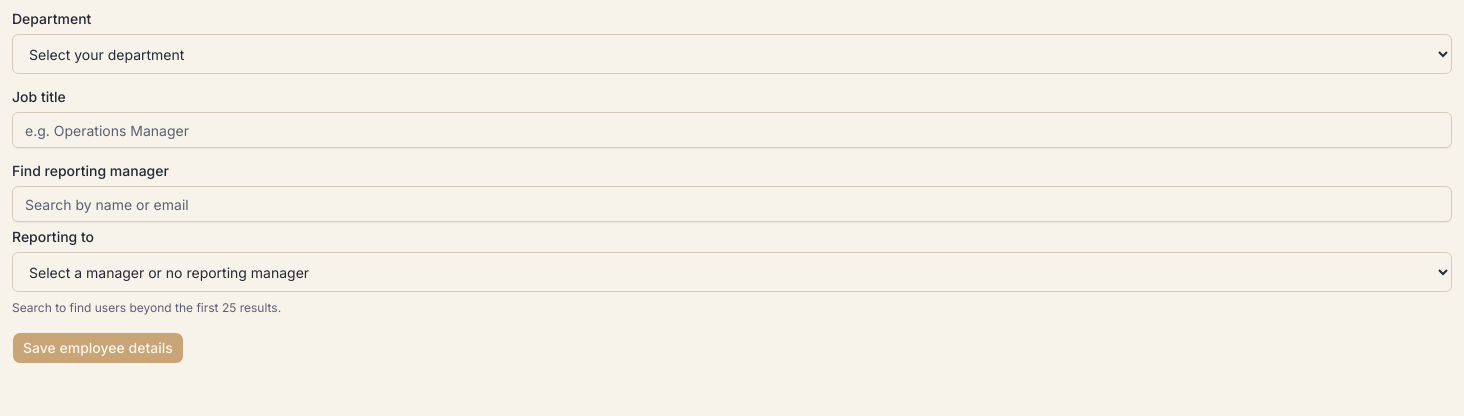
Test: requires an explicit no-manager choice and retains values after a save error
The width and height of the screenshot is (1464, 416).
Select "IT" in the dropdown labelled "Department" at (732, 54), box [12,34,1452,74]
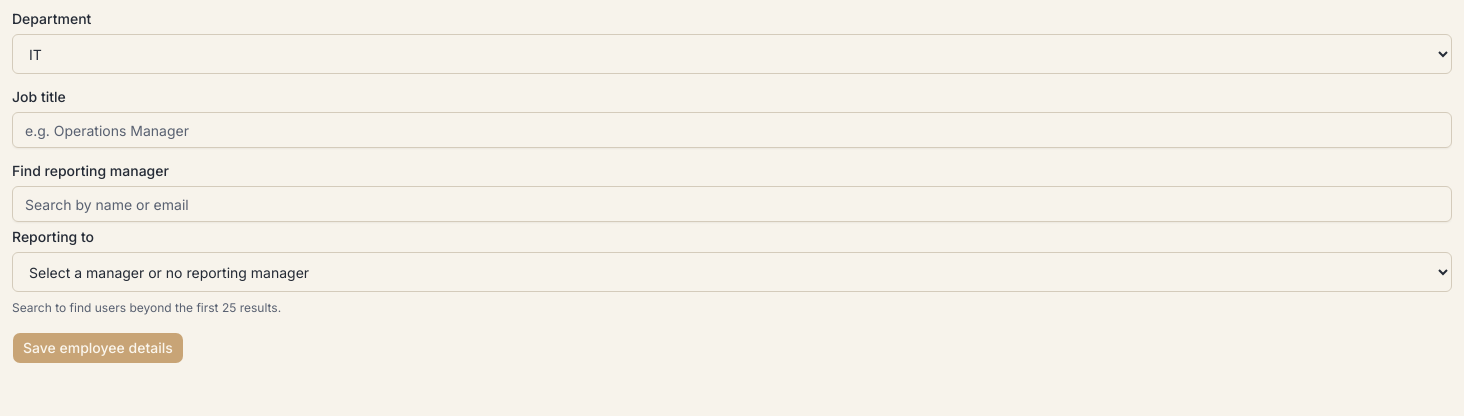
Type "Engineer" into the field labelled "Job title" at (732, 130), box [12,112,1452,148]
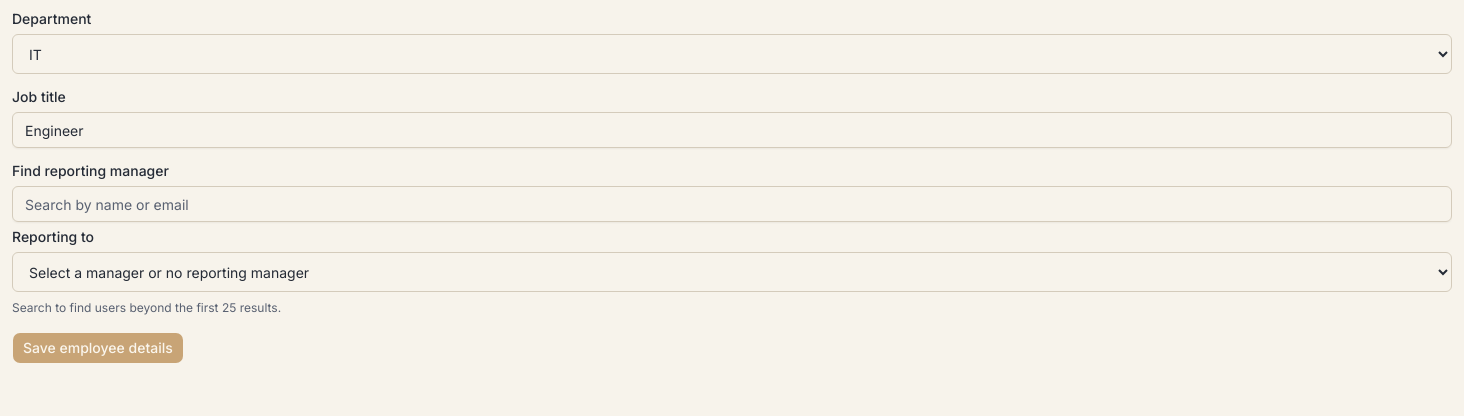
Expected: the button "Save employee details" is disabled, [12,332,184,364]
Select "No reporting manager" in the dropdown labelled "Reporting to" at (732, 272), box [12,252,1452,292]
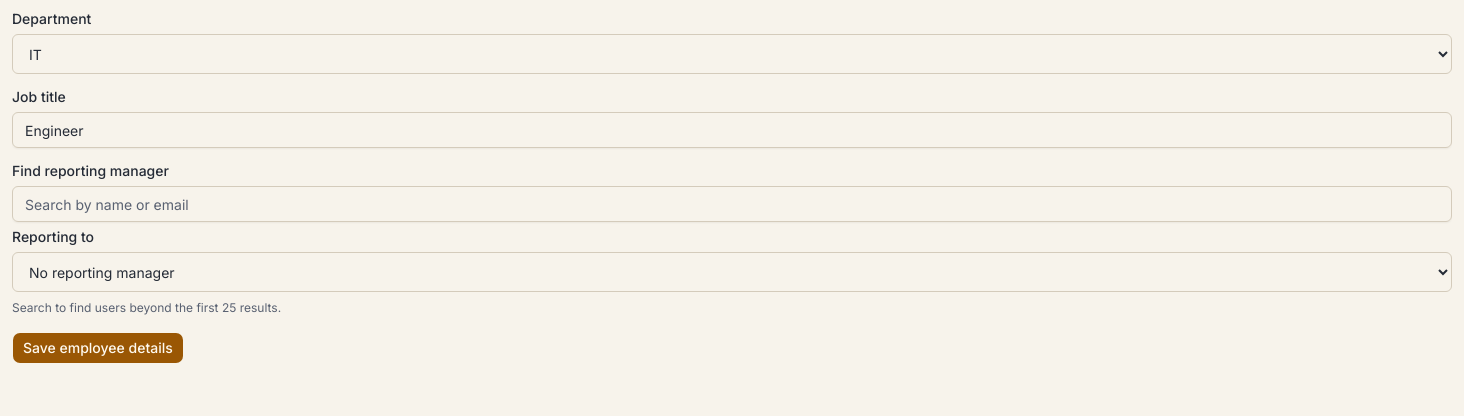
Click the button "Save employee details" at (98, 348), box [12,332,184,364]
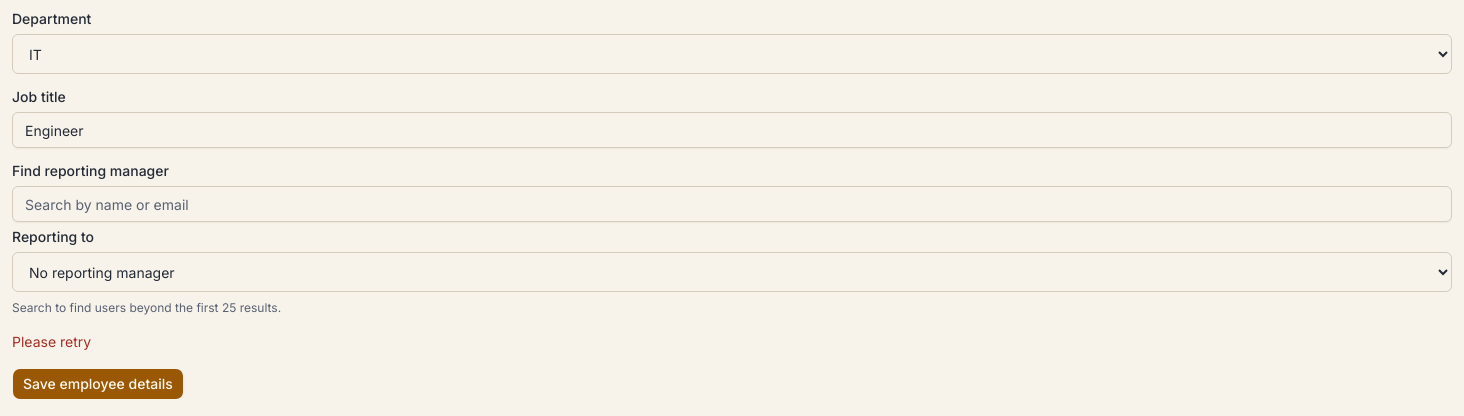
Result: the message reads "Please retry" at [12,333,91,350]
